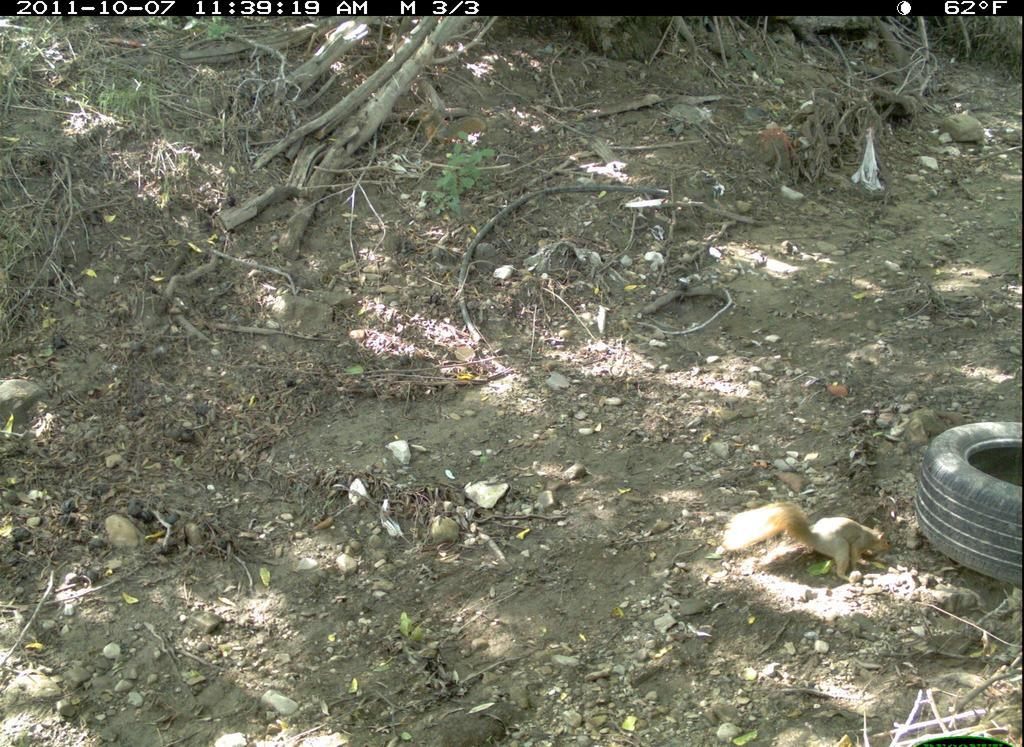squirrel: (713, 491, 903, 591)
